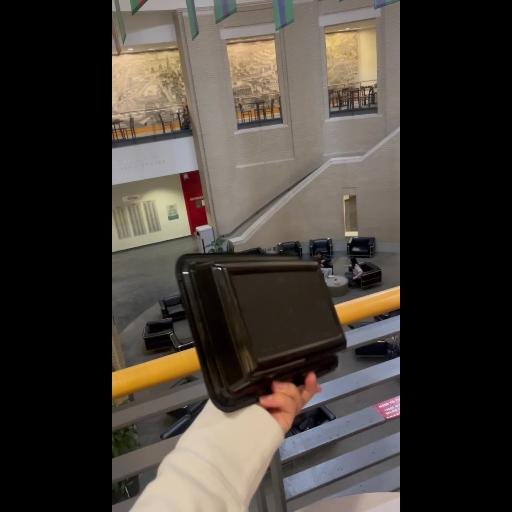rigid_plastic_container: (173, 256, 343, 410)
